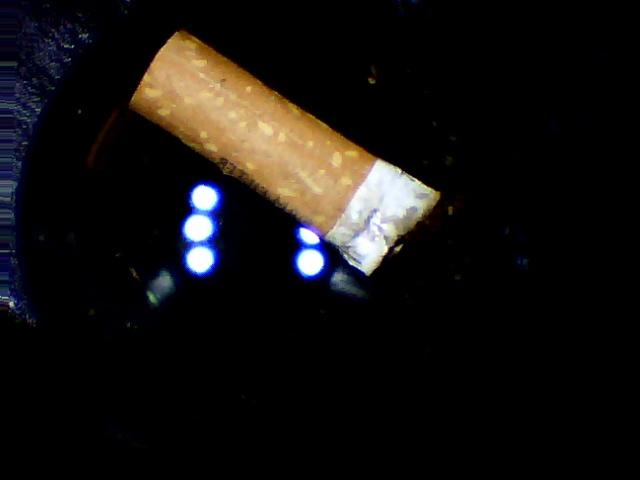megot: (110, 21, 459, 294)
